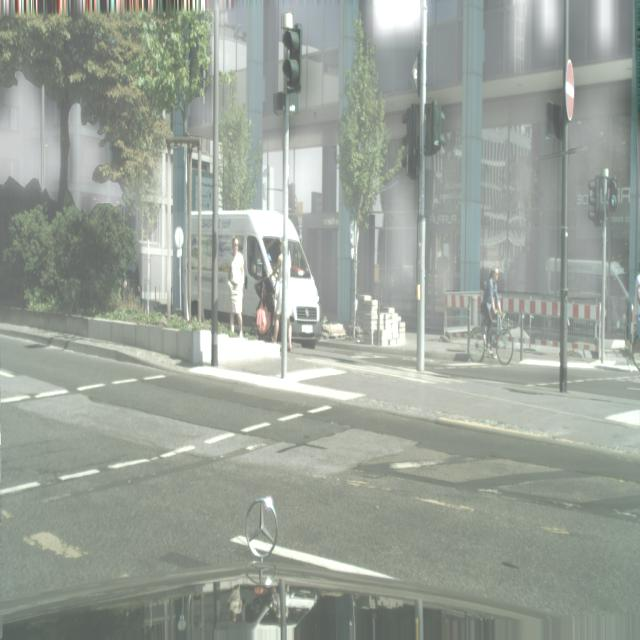car: (468, 264, 513, 365)
motorcycle: (184, 209, 323, 341)
person: (272, 245, 293, 351), (228, 236, 245, 338)
